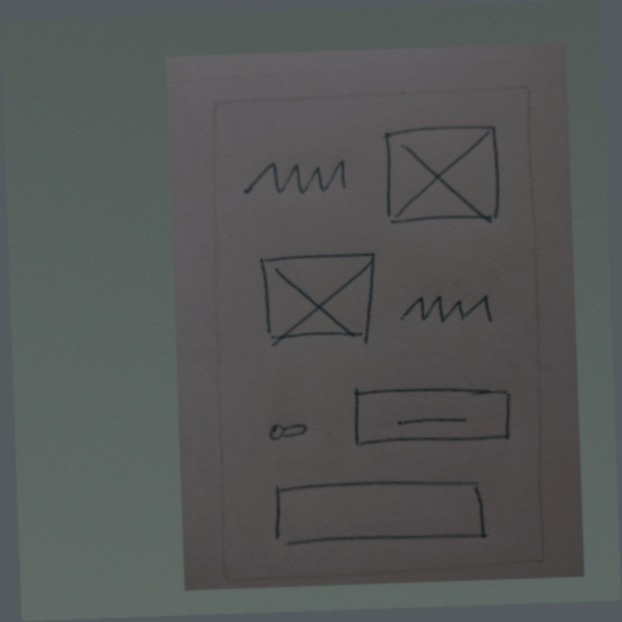button: (344, 368, 525, 458)
image: (249, 241, 380, 354), (376, 119, 507, 231)
switch: (255, 411, 319, 447)
text: (234, 148, 364, 207), (389, 281, 507, 336)
text_input: (261, 466, 498, 553)
